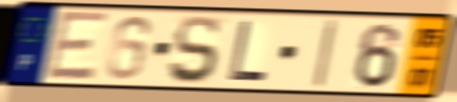6: (354, 21, 404, 89), (104, 14, 153, 82)
E: (43, 8, 112, 84)
I: (310, 17, 340, 91)
L: (226, 18, 270, 85)
S: (166, 13, 223, 87)
